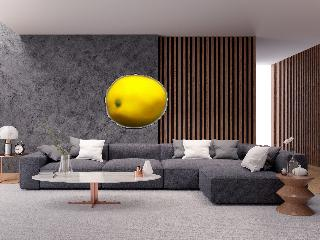lemon: (108, 76, 167, 126)
